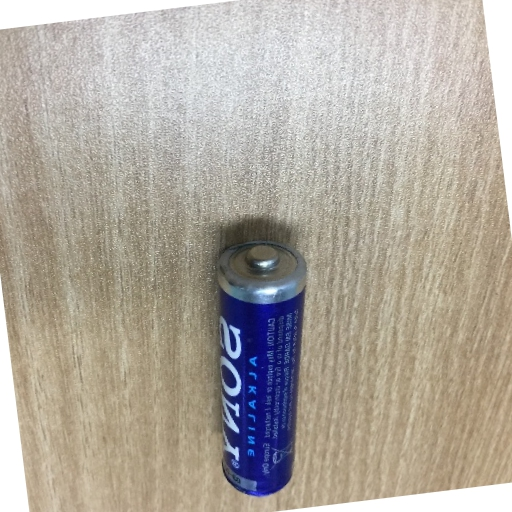Battery_0: (203, 226, 308, 502)
